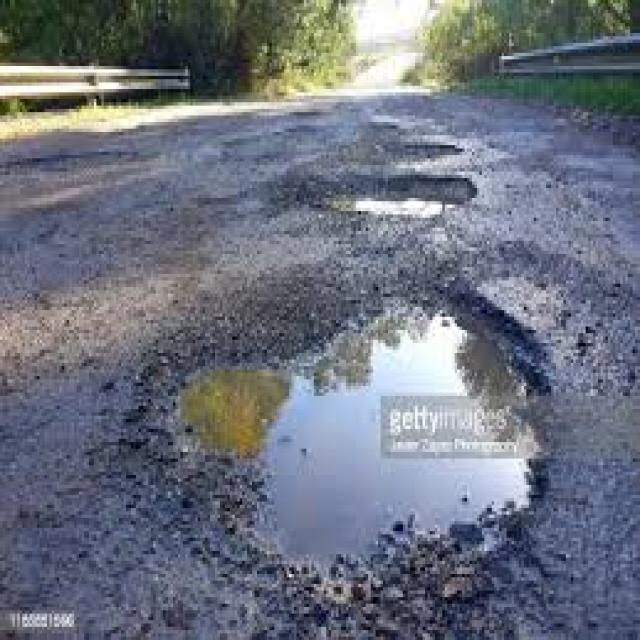Pothole: (175, 287, 554, 640)
